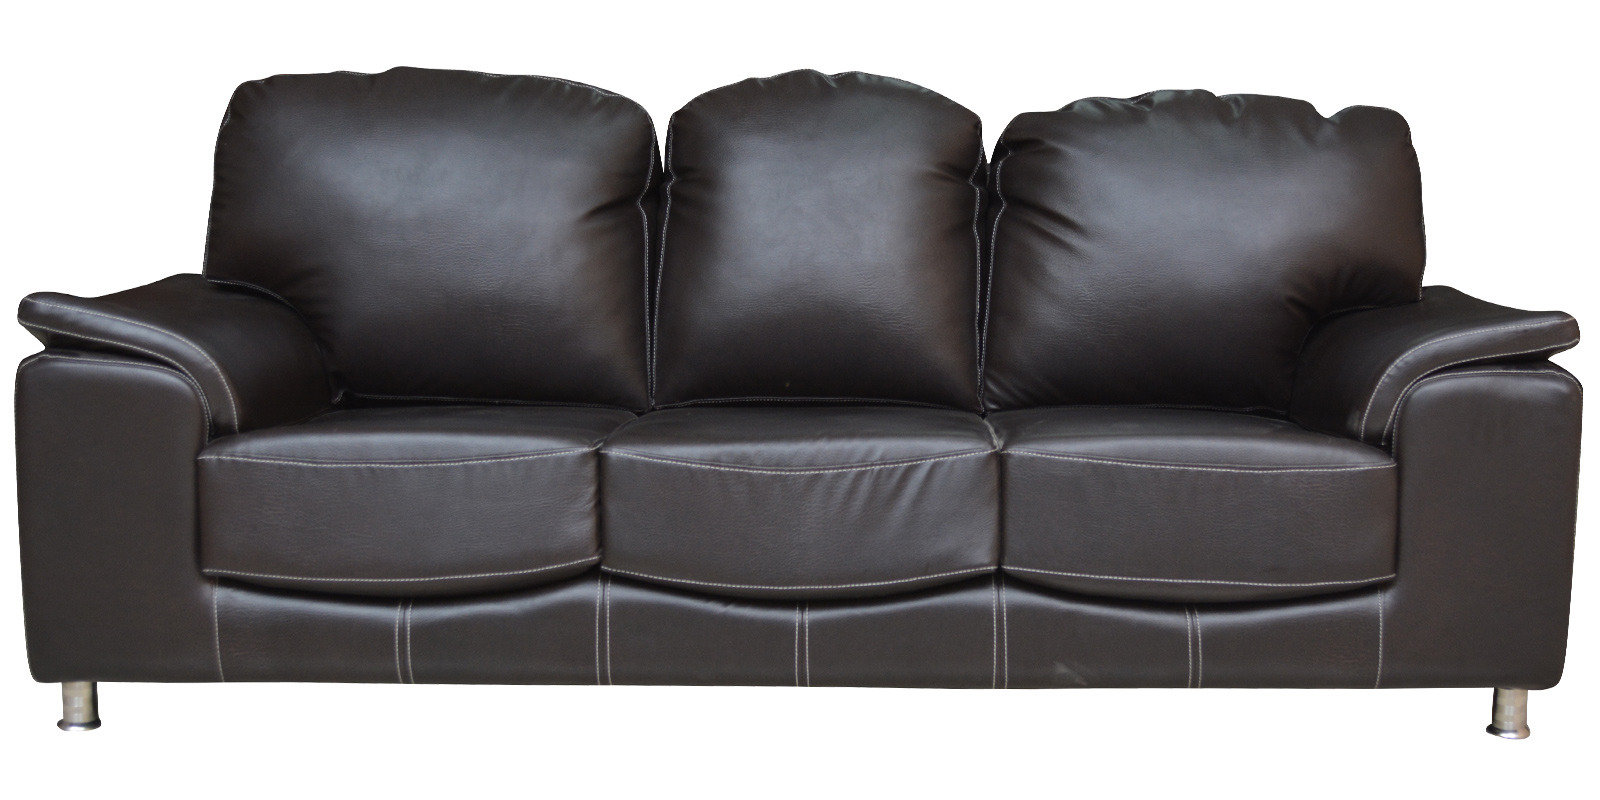Magnum Three Seater Sofa in Black Leatherette by Crystal Furnitech: (13, 69, 1587, 732)
